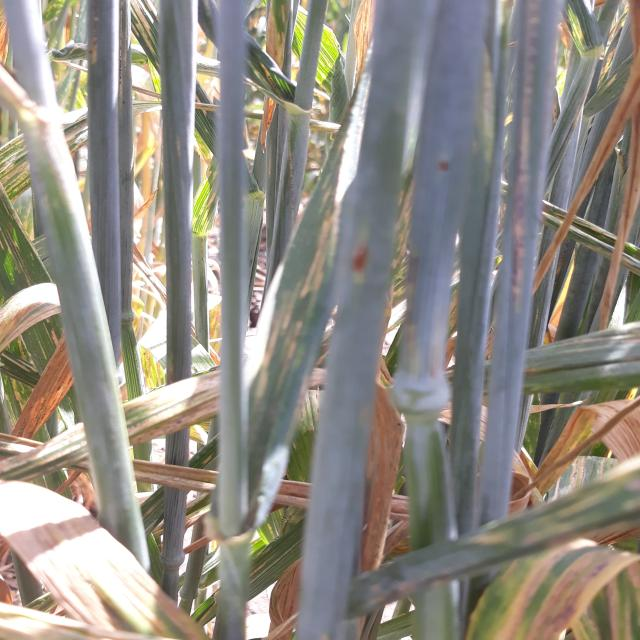black_stem_rust: (480, 5, 572, 426), (337, 74, 413, 448), (56, 0, 142, 200), (401, 133, 480, 259)
